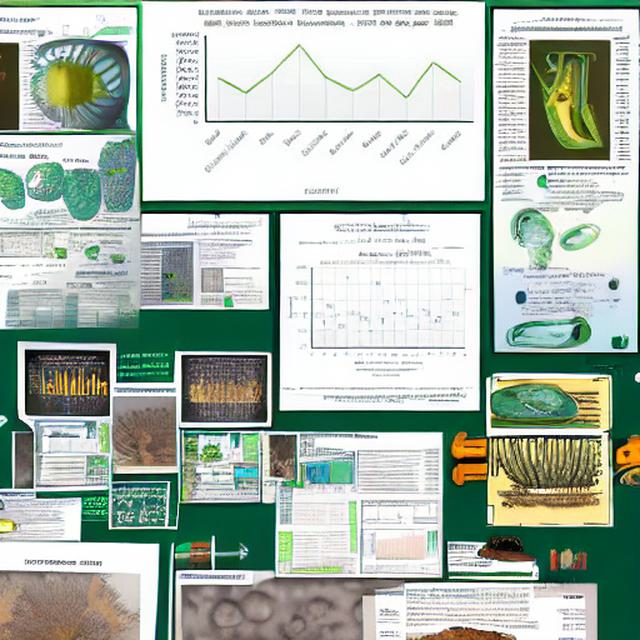Graph: (151, 2, 478, 198), (285, 258, 470, 367), (27, 357, 110, 416), (367, 528, 425, 562)
